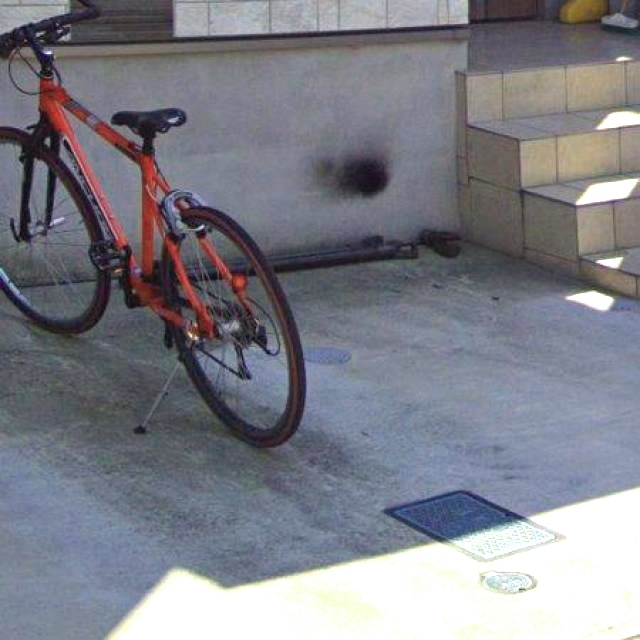bicycle: (0, 6, 355, 478)
